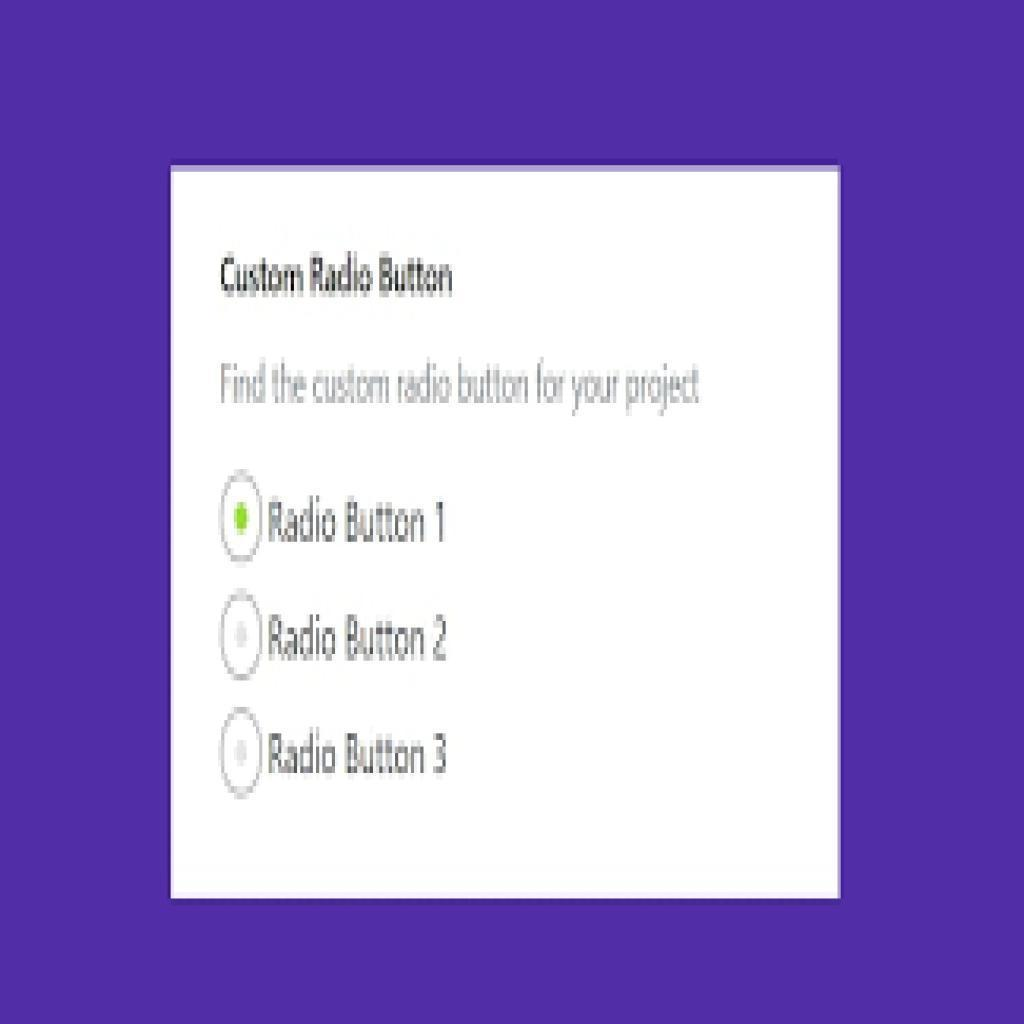label: (265, 724, 456, 784), (265, 610, 454, 667), (265, 497, 446, 550)
radio: (216, 593, 267, 689), (220, 468, 266, 572), (221, 707, 265, 799)
